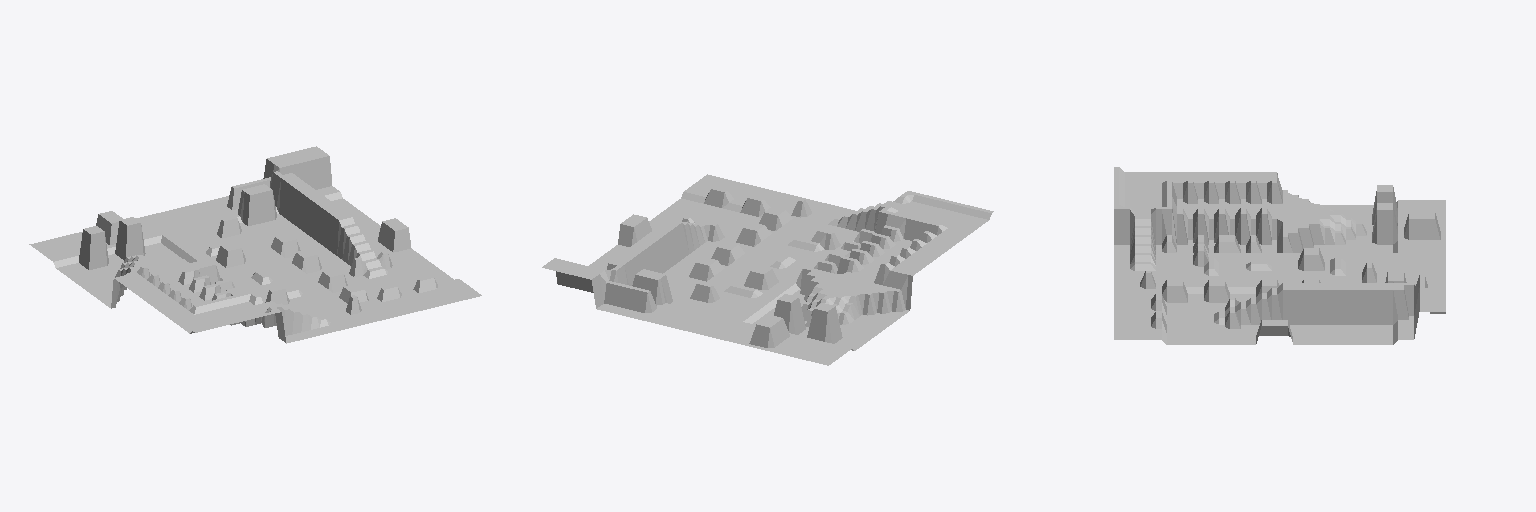
File: base_bridge.obj
3 views of the same model, side by side, from view 1: azimuth 30°, elevation 25°; view 2: azimuth 150°, elevation 25°; view 3: azimuth 270°, elevation 25° (orthographic).
Visible parts, largest first — view 1: Height_Map; view 2: Height_Map; view 3: Height_Map.
Boxes of the visible parts, x1,y1,x2,y2 form: Height_Map: [29, 146, 481, 343]; Height_Map: [542, 174, 993, 365]; Height_Map: [1114, 167, 1445, 344].
Size of the model in its own units: 256 by 31.88 by 256.